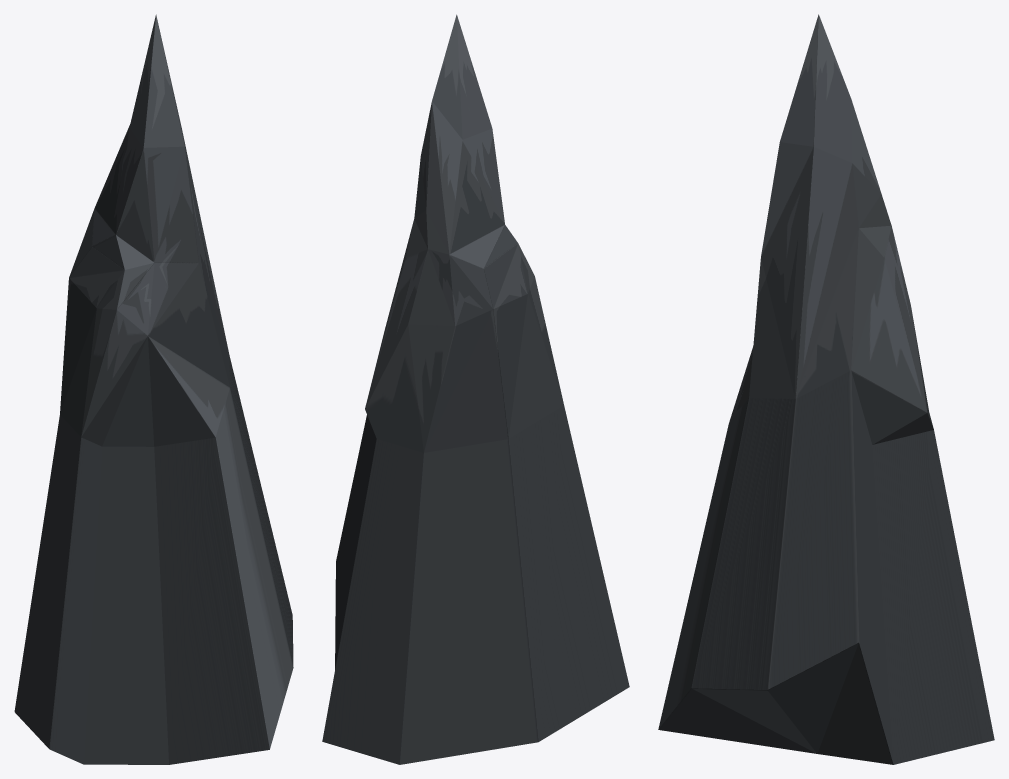
Rendered from rock 3.fbx.
3 views of the same model, side by side, from view 1: azimuth 30°, elevation 25°; view 2: azimuth 150°, elevation 25°; view 3: azimuth 270°, elevation 25° (orthographic). The views are drawn at different scales.
Parts seen in each view (by area): view 1: rock 3; view 2: rock 3; view 3: rock 3.
Part boxes in pixels (left/top/right/bottom): rock 3: left=14, top=14, right=293, bottom=764; rock 3: left=322, top=14, right=629, bottom=764; rock 3: left=658, top=14, right=994, bottom=764.
Bounding box in the file's own units: 564 × 1516 × 639.
Materials: 1 (1 with a texture image).
